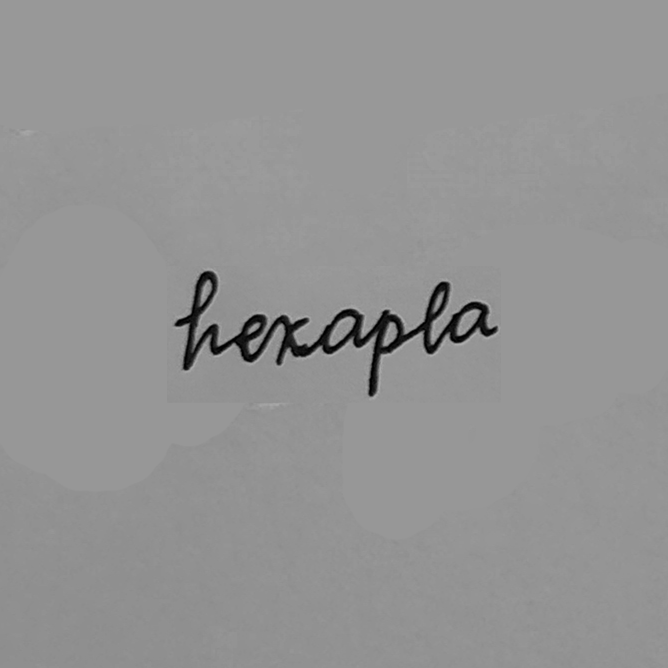a: (446, 298, 499, 345), (318, 306, 367, 356)
e: (234, 311, 270, 366)
h: (179, 269, 226, 373)
l: (419, 277, 455, 358)
p: (366, 306, 406, 400)
x: (271, 312, 315, 370)
